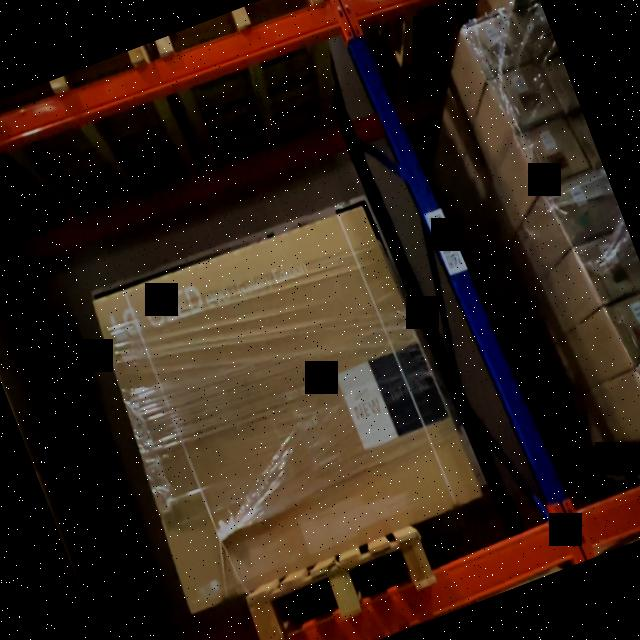box: (105, 210, 474, 598), (550, 168, 624, 247), (579, 229, 640, 305), (520, 117, 586, 186), (496, 64, 558, 130), (470, 12, 530, 78), (518, 2, 560, 62), (611, 291, 640, 368), (545, 56, 580, 111)
